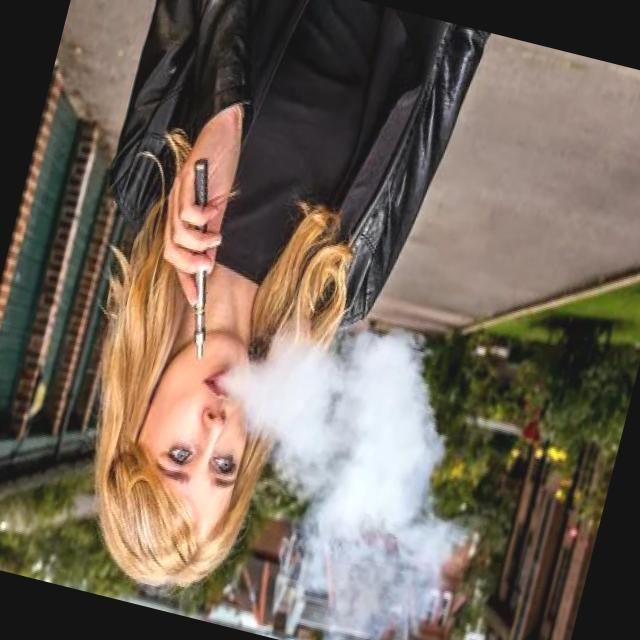smoke: (148, 152, 254, 364)
